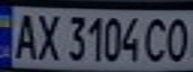0: (103, 14, 124, 63)
1: (84, 12, 106, 62)
3: (63, 11, 87, 62)
4: (121, 14, 145, 63)
A: (9, 9, 39, 61)
C: (139, 13, 172, 64)
O: (163, 14, 193, 63)
X: (33, 10, 63, 62)
